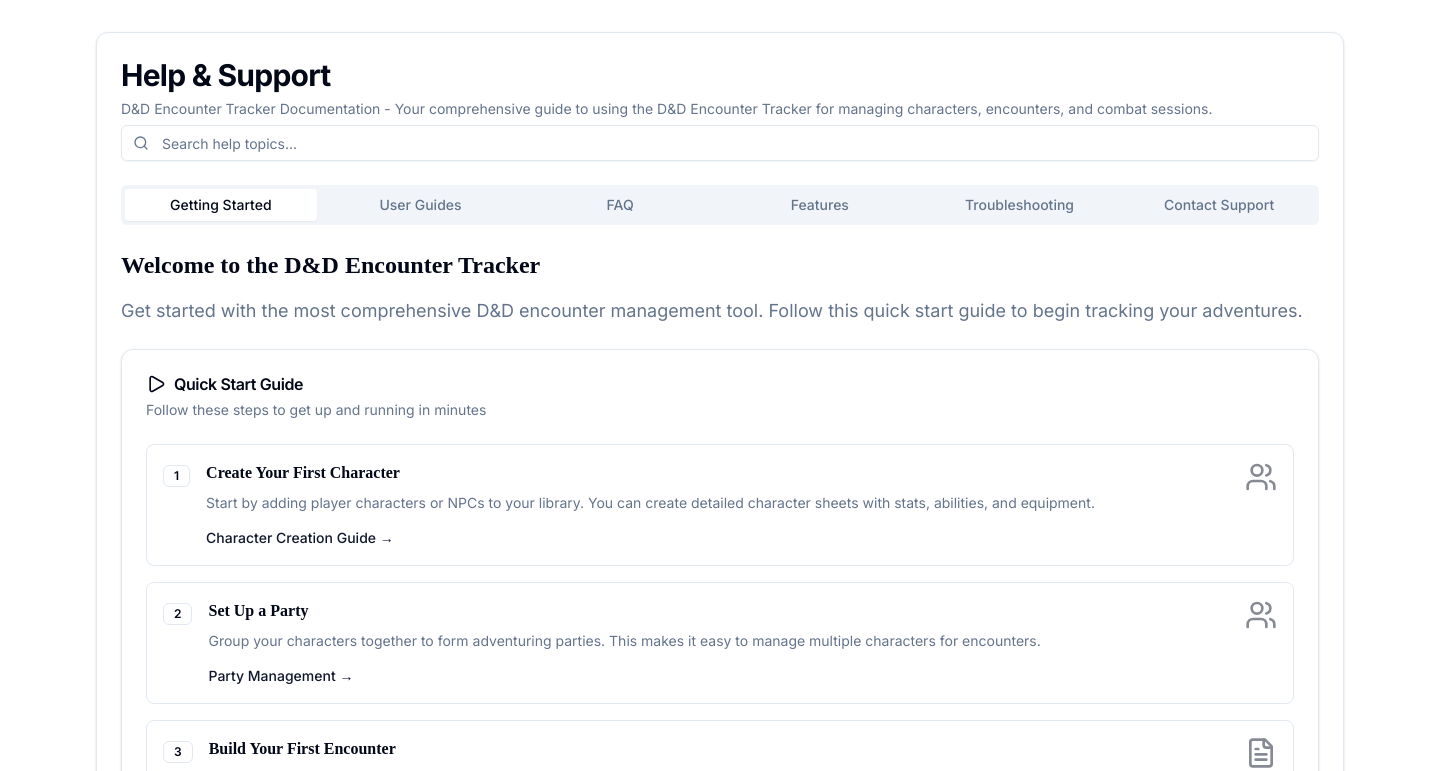
Test case: HelpPage Component › Search Functionality › shows no results message for invalid search
In the field with placeholder "Search help topics...": (720, 143) [121,125,1319,161], type "xyz123nonexistent"
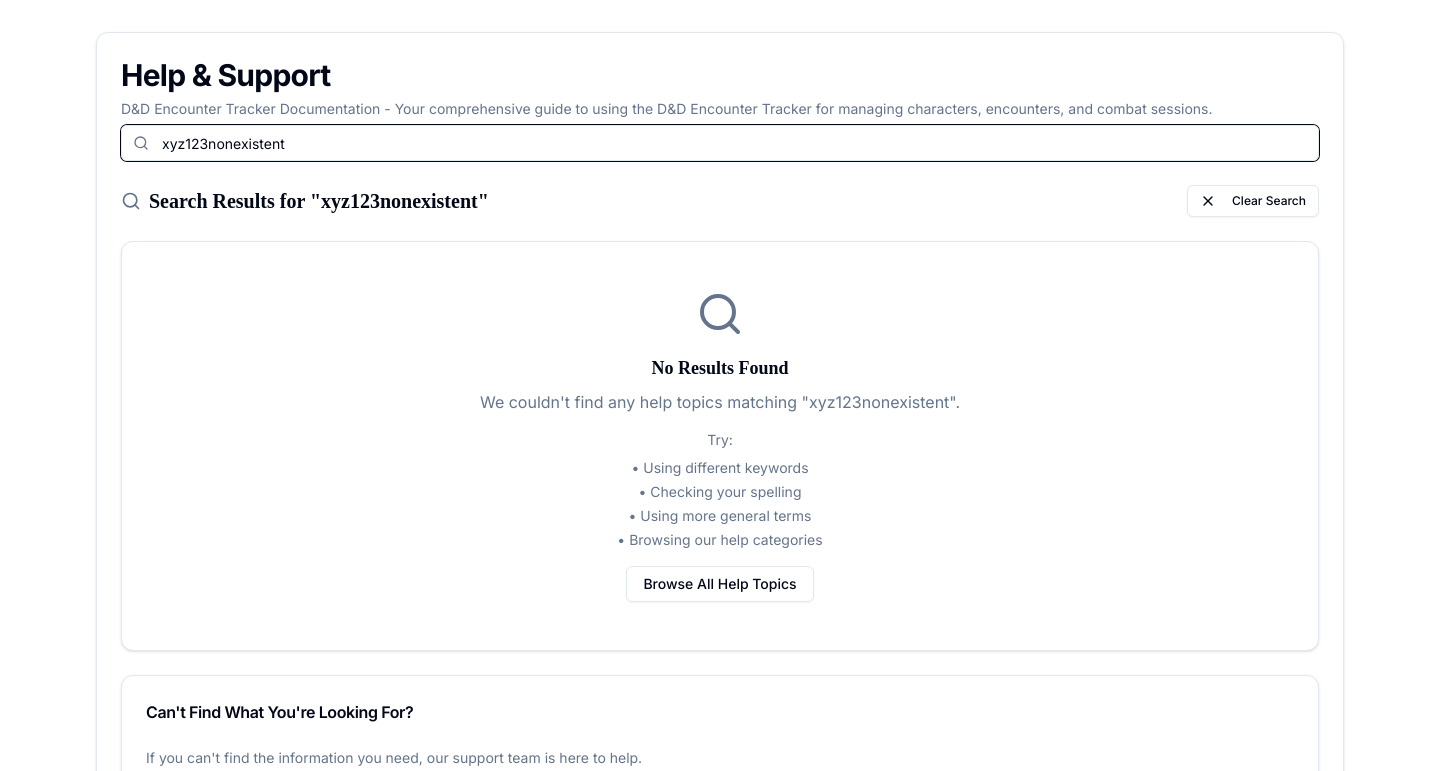
Expected: the heading "No Results Found" is shown, [652,358,788,378]
